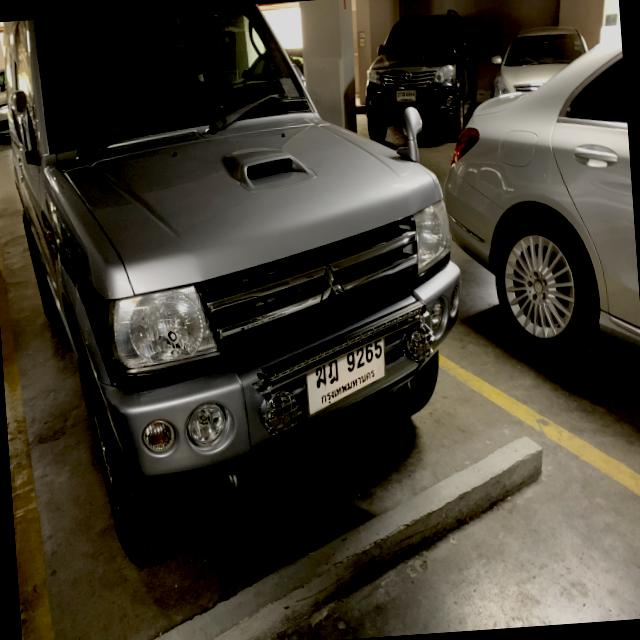license_plate: (298, 324, 396, 422)
